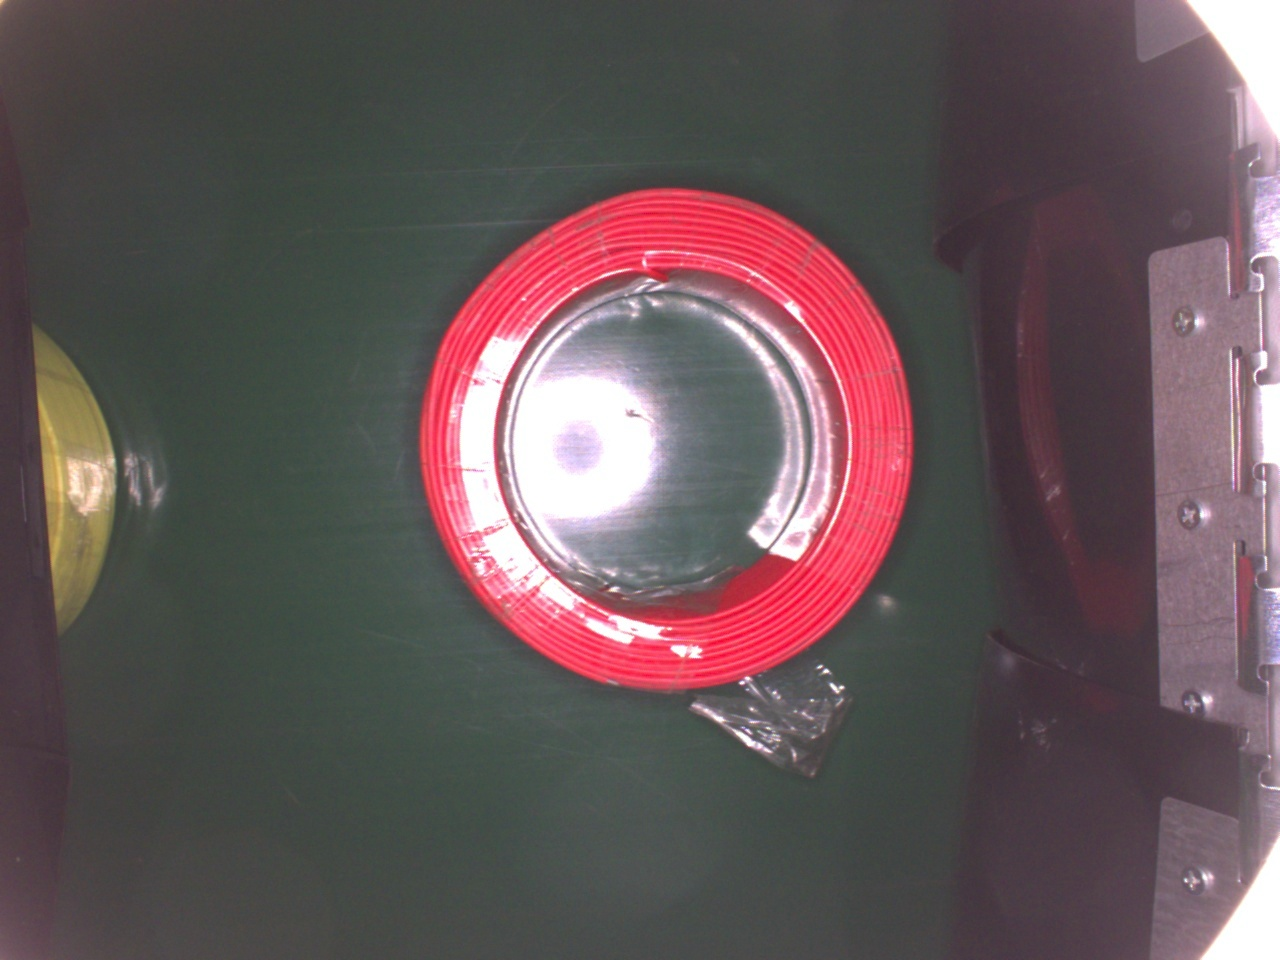red: (416, 186, 915, 695)
